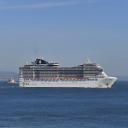cruises: (18, 56, 119, 90)
